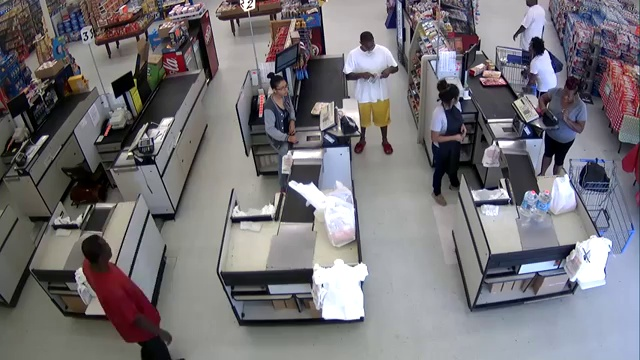face: (561, 90, 575, 103), (275, 84, 288, 96)
